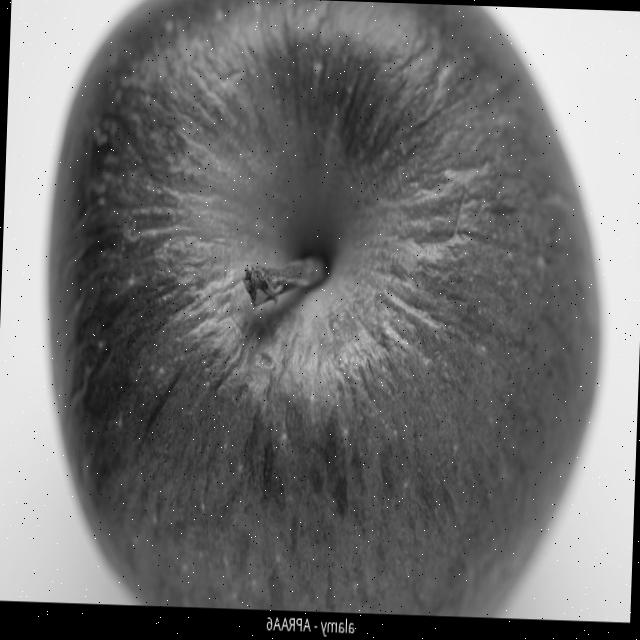overripe: (31, 0, 612, 612)
